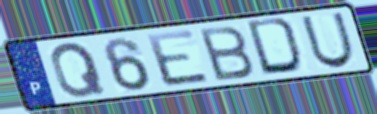6: (101, 35, 152, 92)
B: (196, 24, 257, 83)
D: (244, 16, 308, 77)
E: (143, 27, 214, 89)
Q: (48, 40, 108, 100)
U: (298, 11, 357, 71)
